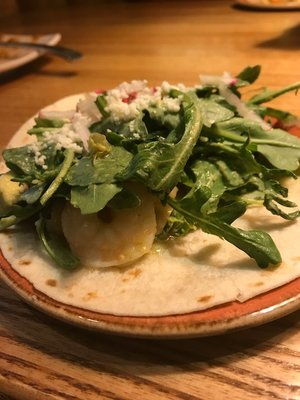sandwich: (1, 37, 84, 61)
